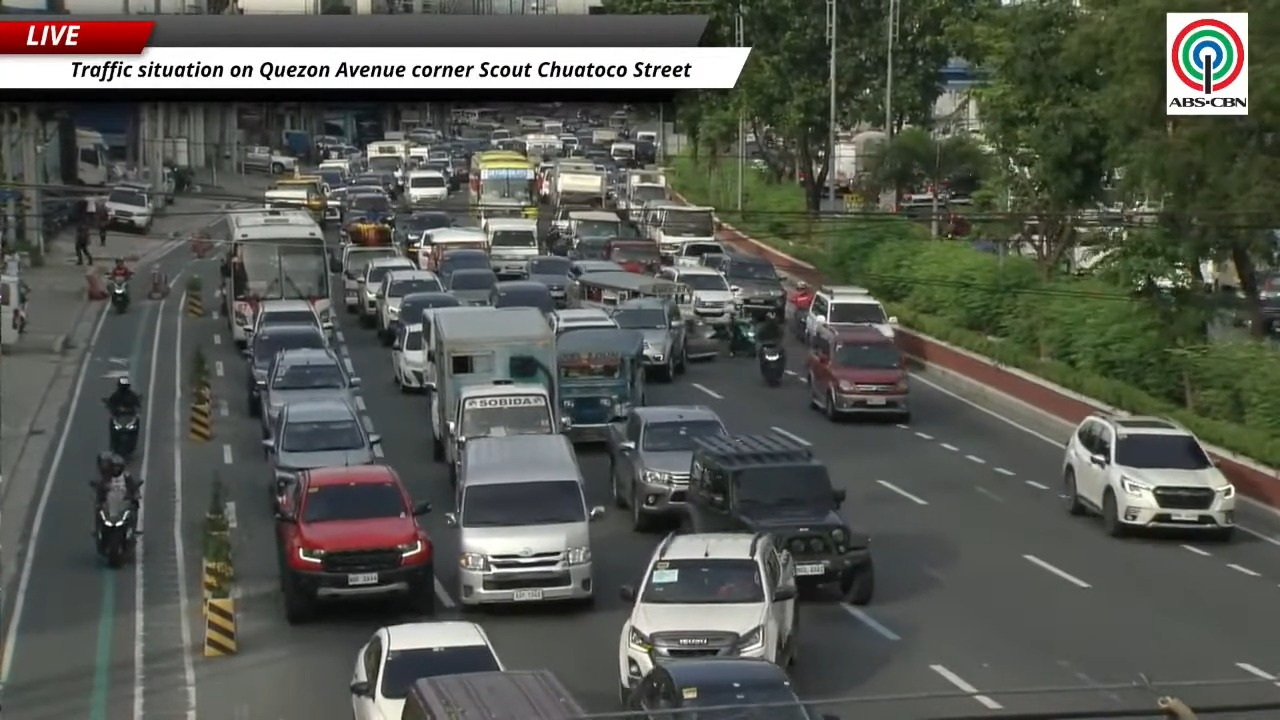bus: (223, 210, 331, 346), (471, 158, 537, 225)
car: (682, 434, 874, 604), (619, 532, 798, 701), (273, 465, 434, 624), (1062, 413, 1236, 540), (350, 621, 504, 719), (606, 406, 727, 530), (624, 656, 839, 719), (263, 397, 380, 488), (806, 325, 910, 422), (260, 349, 359, 436), (243, 325, 327, 416), (611, 298, 685, 381), (701, 252, 786, 317), (805, 286, 896, 341), (376, 270, 442, 345), (334, 245, 401, 312), (658, 266, 734, 323), (359, 257, 416, 326), (248, 299, 333, 336), (394, 211, 455, 257), (342, 175, 394, 225), (523, 255, 571, 307), (393, 291, 459, 328), (392, 322, 427, 391), (489, 281, 555, 314), (105, 187, 153, 232), (436, 248, 490, 285), (445, 267, 497, 305), (551, 308, 617, 335), (242, 145, 298, 174), (685, 318, 723, 360), (404, 169, 447, 205), (674, 241, 725, 265), (570, 259, 625, 278), (324, 185, 348, 223), (699, 254, 729, 274)
motorcycle: (95, 484, 135, 568), (104, 400, 139, 459), (727, 314, 755, 356), (759, 344, 784, 386), (109, 278, 129, 313)
truck: (428, 307, 562, 475), (552, 163, 607, 207)
